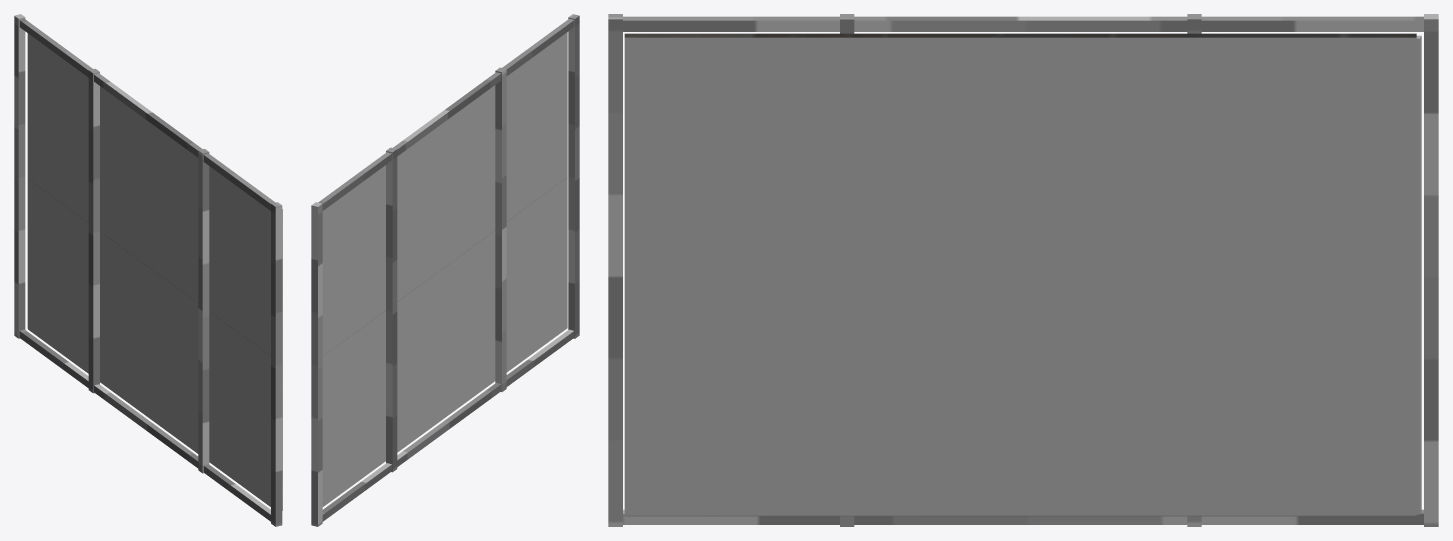
Rendered from bz_banners_01.fbx.
3 renders of one model, left to right at view 1: azimuth 30°, elevation 25°; view 2: azimuth 150°, elevation 25°; view 3: azimuth 270°, elevation 25°, orthographic. The views are drawn at different scales.
Visible parts, largest first — view 1: bz_banner_02, bz_banner_frame_01; view 2: bz_banner_02, bz_banner_frame_01; view 3: bz_banner_02, bz_banner_frame_01, bz_banner_01.
Part boxes in pixels (<box>): bz_banner_02: <box>28,33,282,510</box>; bz_banner_frame_01: <box>14,14,282,526</box>; bz_banner_02: <box>322,32,567,506</box>; bz_banner_frame_01: <box>311,14,579,526</box>; bz_banner_02: <box>624,33,1416,516</box>; bz_banner_frame_01: <box>608,14,1438,526</box>; bz_banner_01: <box>1416,35,1421,514</box>.
Size of the model in its own units: 0.091 by 2.27 by 3.37.
